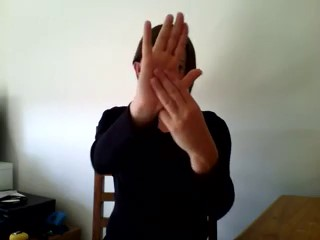M: (135, 7, 210, 160)
